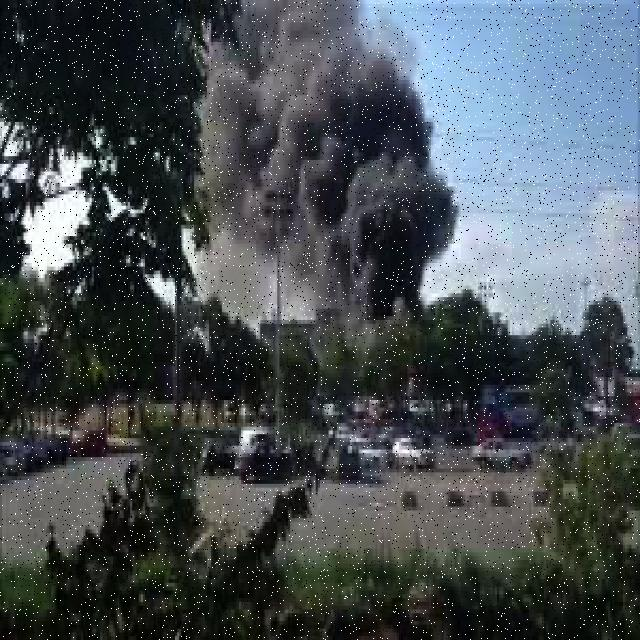smoke: (217, 13, 458, 314)
